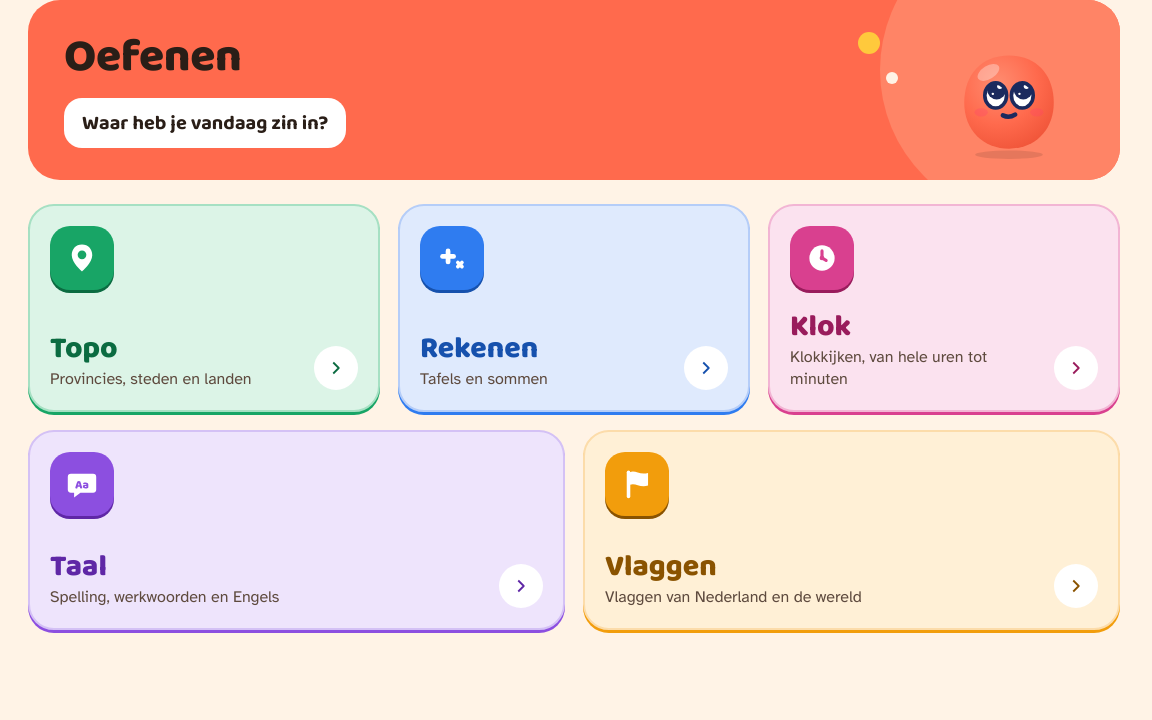
Oefenen › lets Denker say something about the subject you point at
Check: the text "Waar heb je vandaag zin in?" is shown, box [64, 98, 346, 148]
Focus the button "Rekenen Tafels en sommen" at (452, 258), box [398, 204, 750, 412]
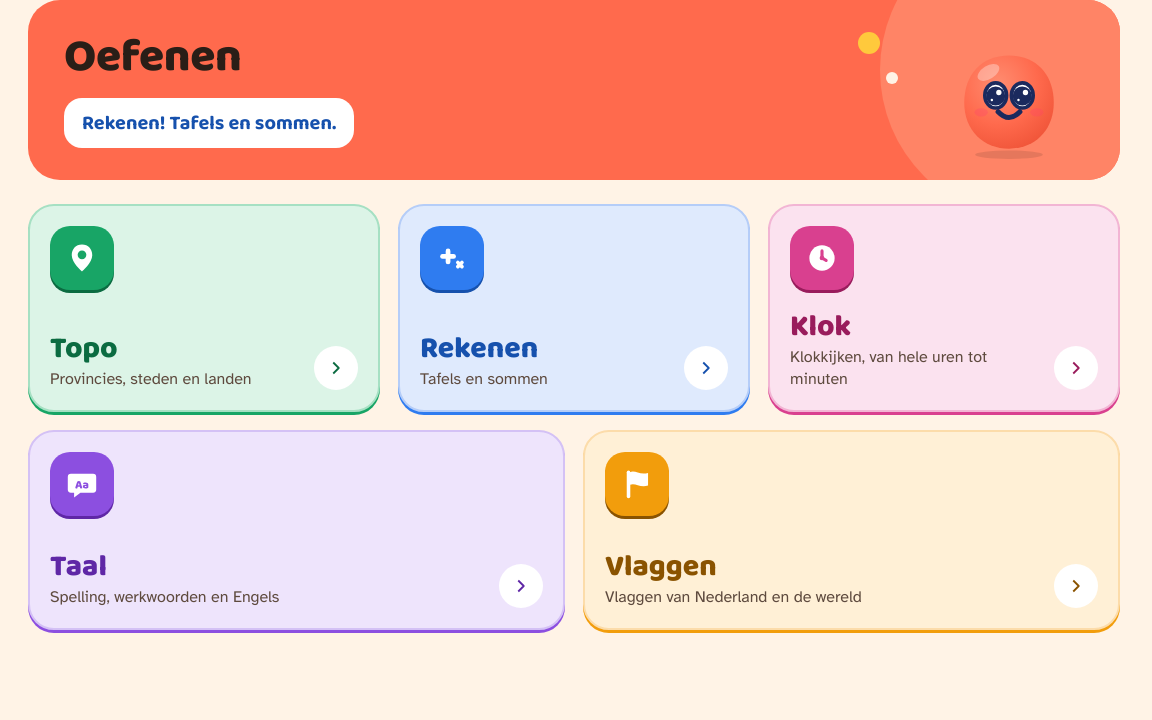
Check: the text "Rekenen! Tafels en sommen." is shown, box [64, 98, 354, 148]
Click the button named "Kietel Denker" at (1009, 93), box [934, 18, 1084, 168]
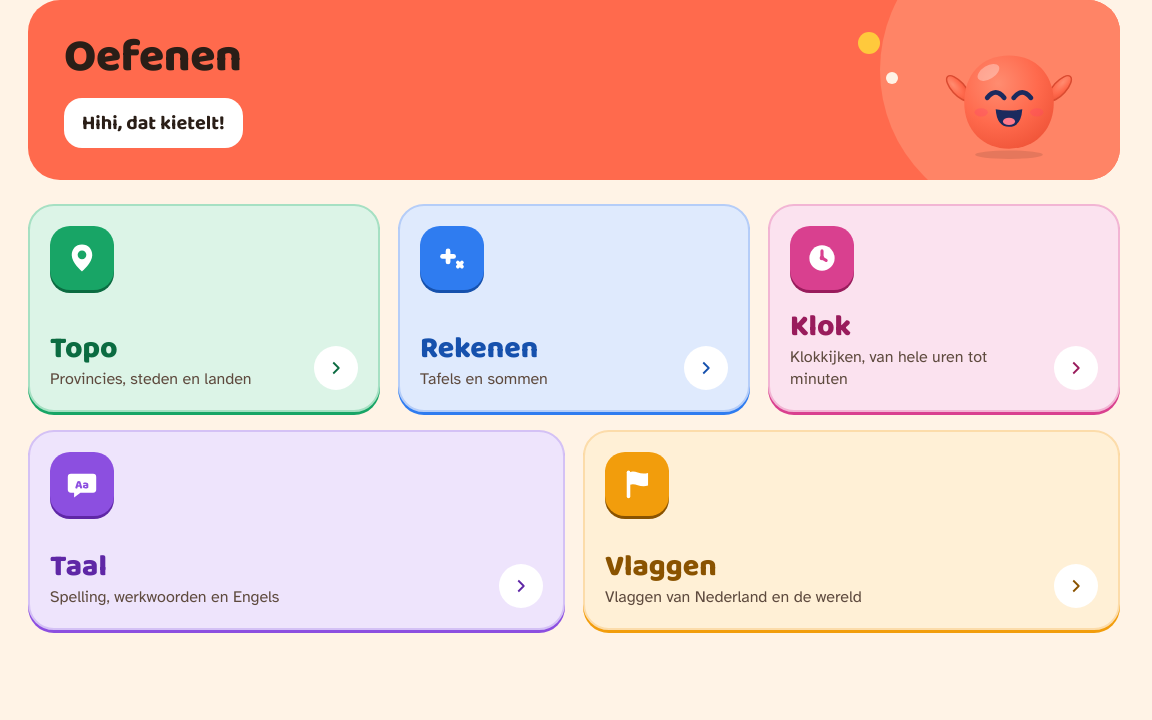
Check: the text "Hihi, dat kietelt!" is shown, box [64, 98, 243, 148]
